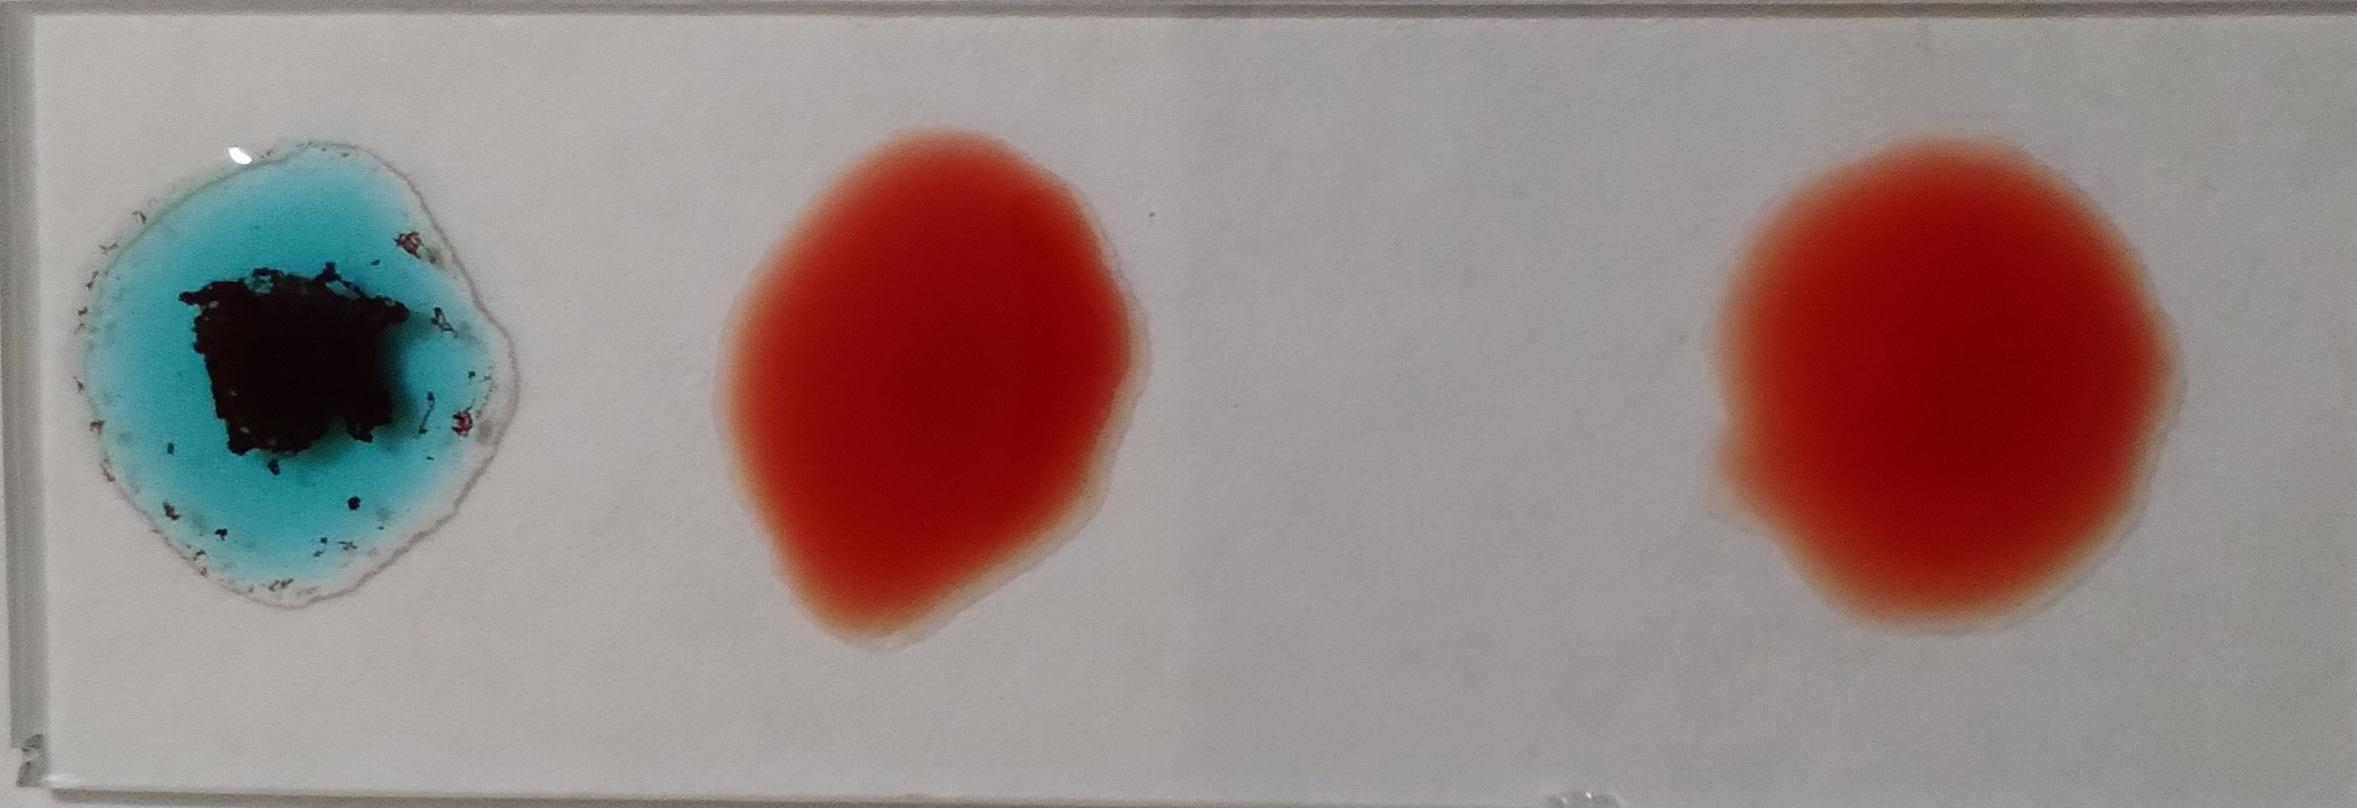A: (66, 138, 498, 617)
